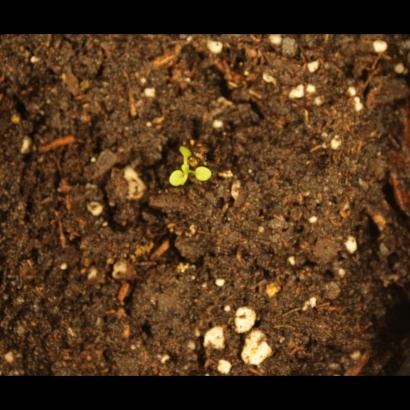leaf: (171, 133, 204, 162), (192, 158, 220, 187), (161, 169, 186, 192)
